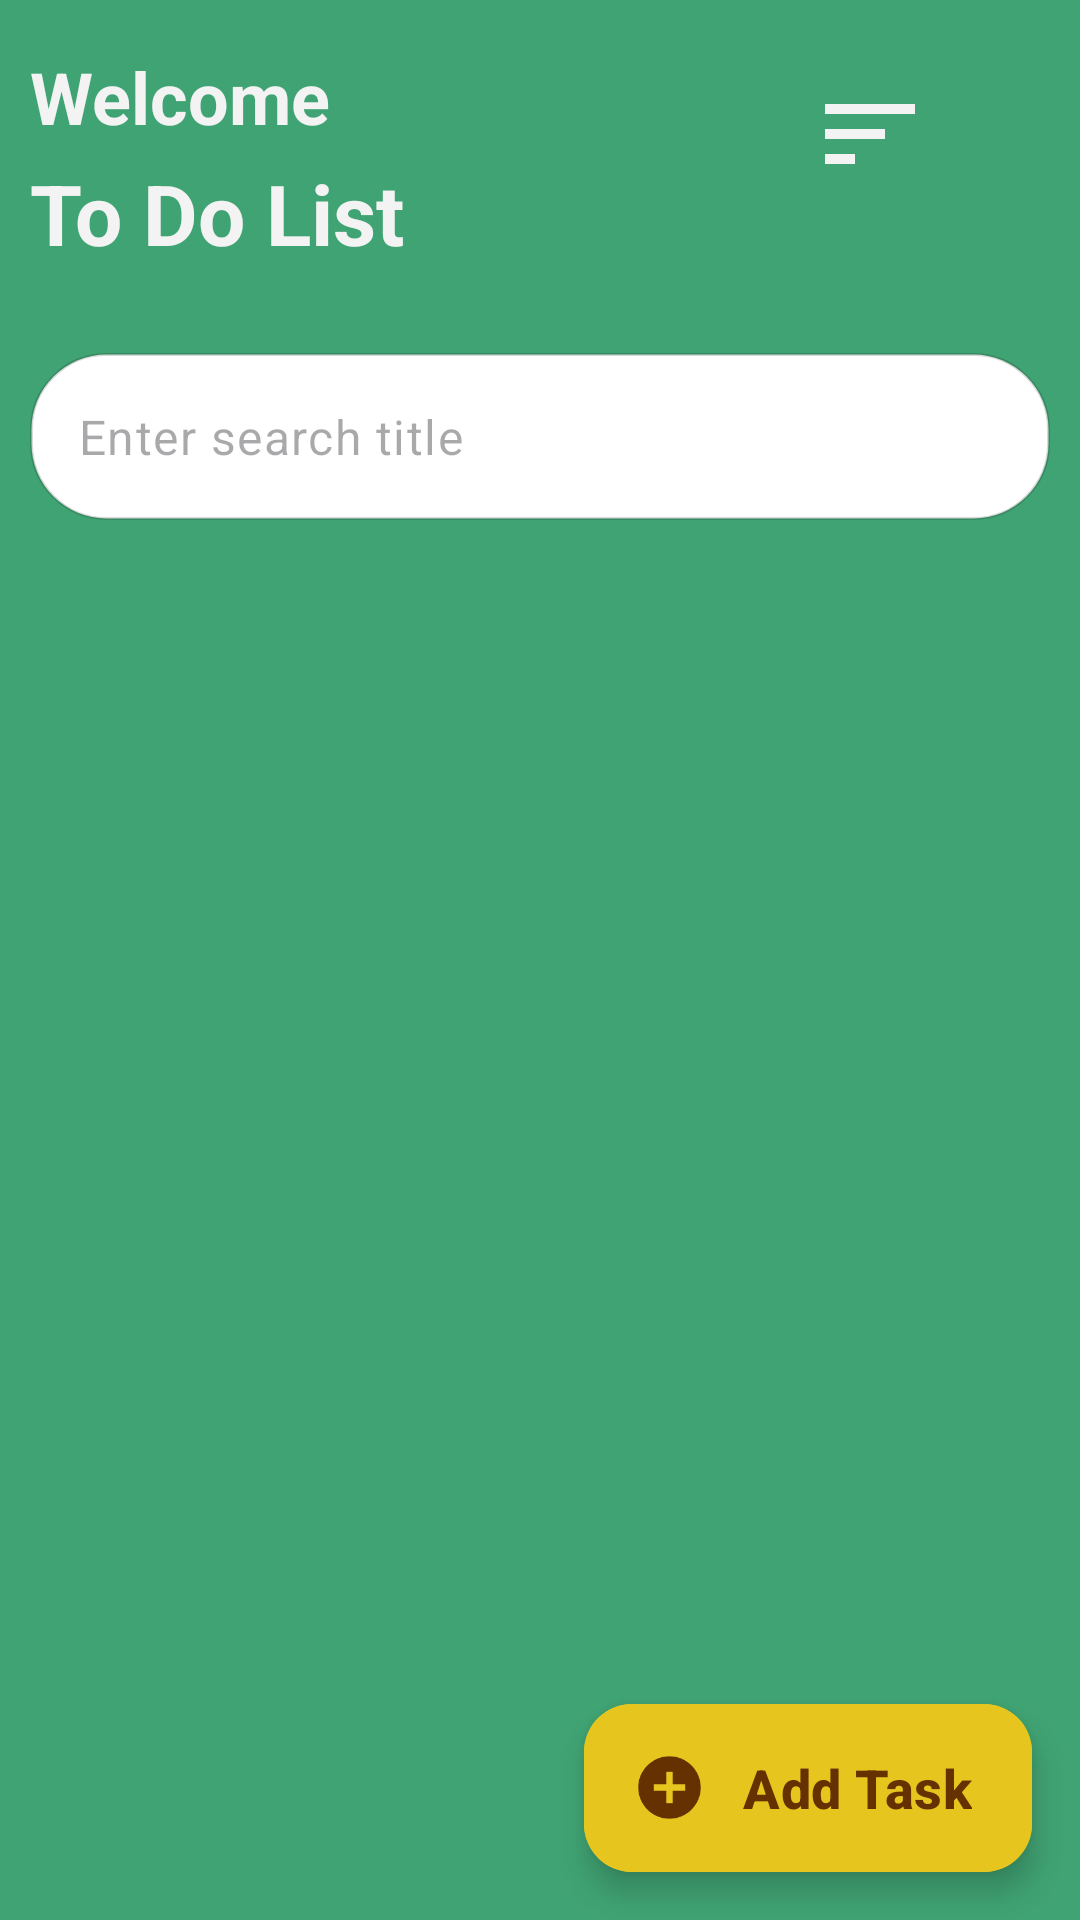

Icon click points for this 1080w x 1920h phone screenshot, format point (x, y):
sort: point (870, 134)
